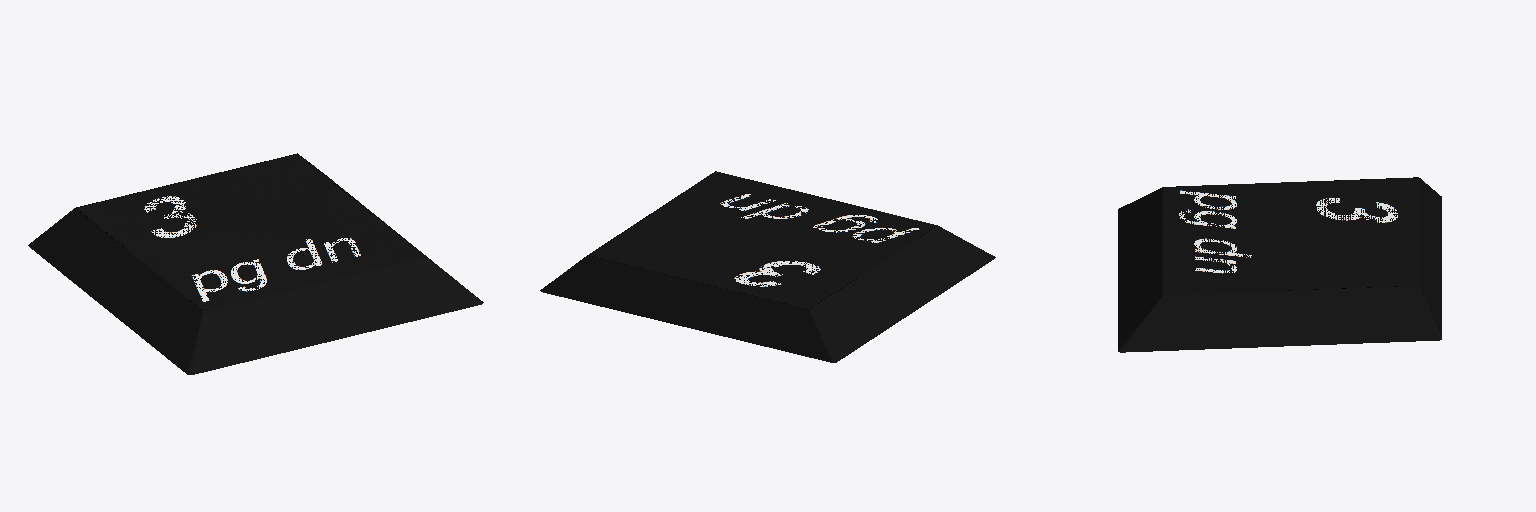
3 renders of one model, left to right at view 1: azimuth 30°, elevation 25°; view 2: azimuth 150°, elevation 25°; view 3: azimuth 270°, elevation 25°, orthographic.
Visible parts, largest first — view 1: Group107/mesh98/mesh98-geometry#mesh98-geometry; view 2: Group107/mesh98/mesh98-geometry#mesh98-geometry; view 3: Group107/mesh98/mesh98-geometry#mesh98-geometry.
Boxes of the visible parts, x1=… form: Group107/mesh98/mesh98-geometry#mesh98-geometry: x1=28, y1=153, x2=483, y2=374; Group107/mesh98/mesh98-geometry#mesh98-geometry: x1=540, y1=171, x2=995, y2=362; Group107/mesh98/mesh98-geometry#mesh98-geometry: x1=1118, y1=177, x2=1441, y2=352.
Size of the model in its own units: 0.0754 by 0.0119 by 0.0715.
2 materials, 1 textured.